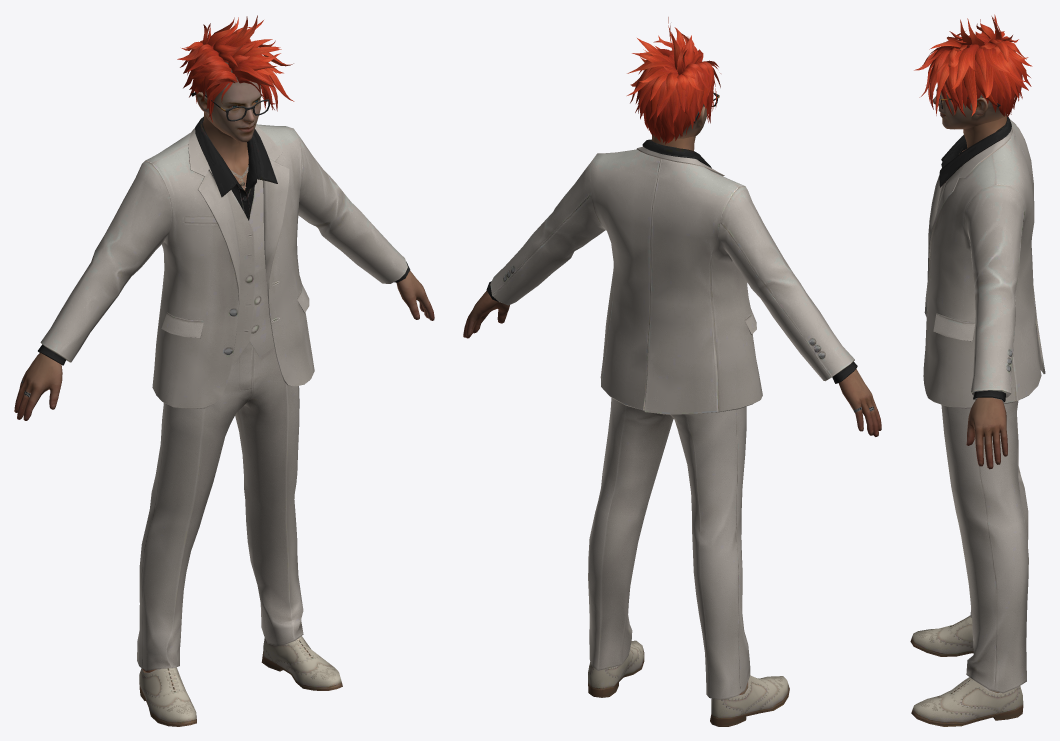
File: freefire_new_skyler_model_by_pace_gaming_ff.glb
3 renders of one model, left to right at view 1: azimuth 30°, elevation 25°; view 2: azimuth 150°, elevation 25°; view 3: azimuth 270°, elevation 25°, orthographic.
Visible parts, largest first — view 1: Object_5, Object_4, Object_2, Object_7, Object_3; view 2: Object_5, Object_4, Object_7, Object_3, Object_2; view 3: Object_5, Object_4, Object_7, Object_3, Object_2.
Boxes of the visible parts, left/top/right/bottom form: Object_5: left=21, top=116, right=410, bottom=408; Object_4: left=137, top=342, right=303, bottom=670; Object_2: left=14, top=62, right=434, bottom=672; Object_7: left=177, top=15, right=294, bottom=121; Object_3: left=139, top=636, right=342, bottom=726; Object_5: left=486, top=139, right=873, bottom=414; Object_4: left=588, top=397, right=750, bottom=699; Object_7: left=627, top=17, right=720, bottom=144; Object_3: left=588, top=640, right=789, bottom=726; Object_2: left=463, top=104, right=881, bottom=694; Object_5: left=923, top=115, right=1045, bottom=408; Object_4: left=941, top=401, right=1028, bottom=693; Object_7: left=914, top=14, right=1032, bottom=117; Object_3: left=910, top=615, right=1023, bottom=726; Object_2: left=933, top=91, right=1007, bottom=469.
Bounding box in the file's own units: 4.11 × 6.4 × 1.16.
6 materials, 6 textured.
